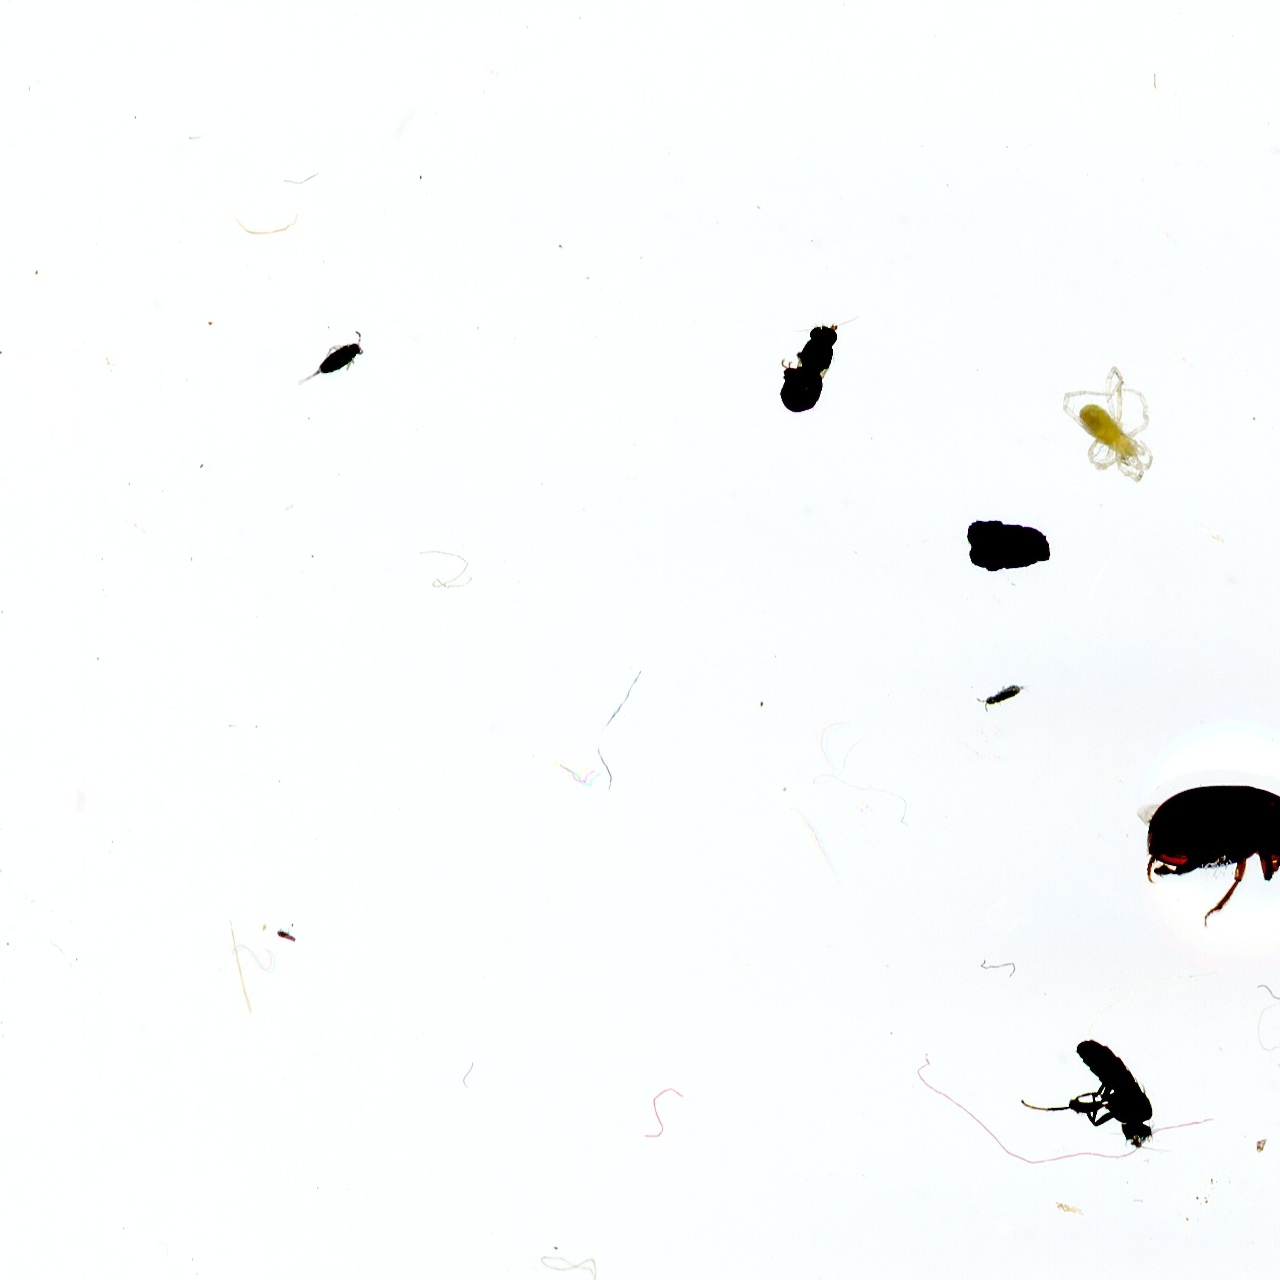arthropod: (1131, 780, 1280, 932), (1008, 1031, 1178, 1163), (761, 287, 870, 429), (1058, 364, 1159, 485), (290, 326, 374, 391), (971, 678, 1042, 717)
